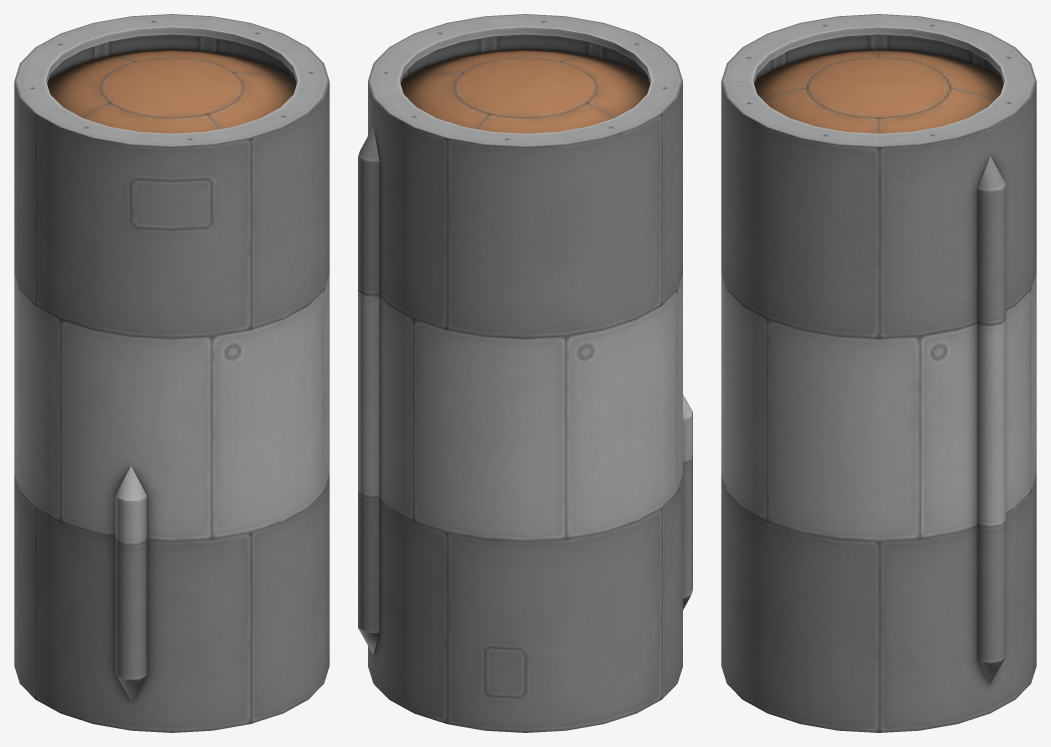
The model's file is TLV_2_LFO_1.obj.
3 renders of one model, left to right at view 1: azimuth 30°, elevation 25°; view 2: azimuth 150°, elevation 25°; view 3: azimuth 270°, elevation 25°, orthographic.
Visible parts, largest first — view 1: TLV_2_LFO_1; view 2: TLV_2_LFO_1; view 3: TLV_2_LFO_1.
Part boxes in pixels (x1,y1,x2,y2): TLV_2_LFO_1: [14, 14, 329, 732]; TLV_2_LFO_1: [358, 14, 692, 732]; TLV_2_LFO_1: [721, 14, 1036, 732].
Bounding box in the file's own units: 1.25 × 2.57 × 1.25.
